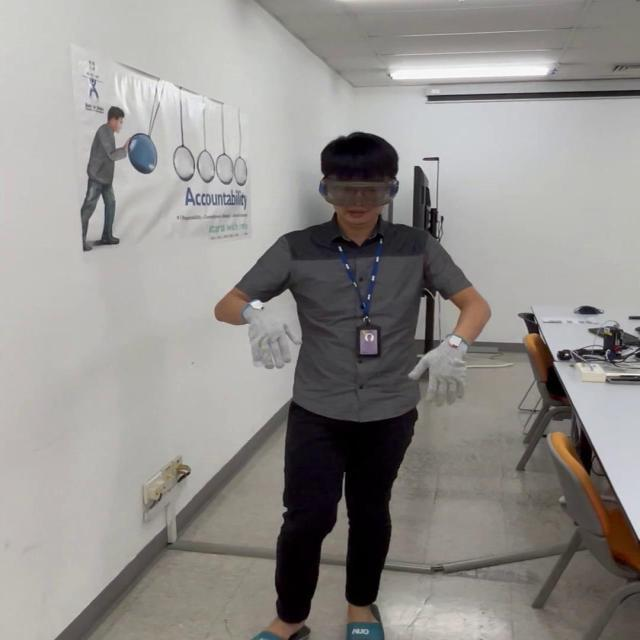gloved_hand: (413, 330, 476, 404), (239, 298, 300, 369)
